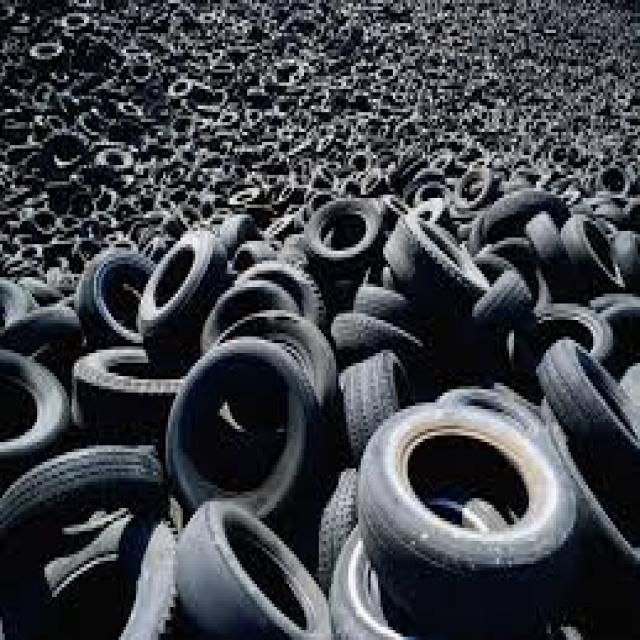Rubber -Non-Biodegradable but Recyclable-: (2, 0, 638, 638)
